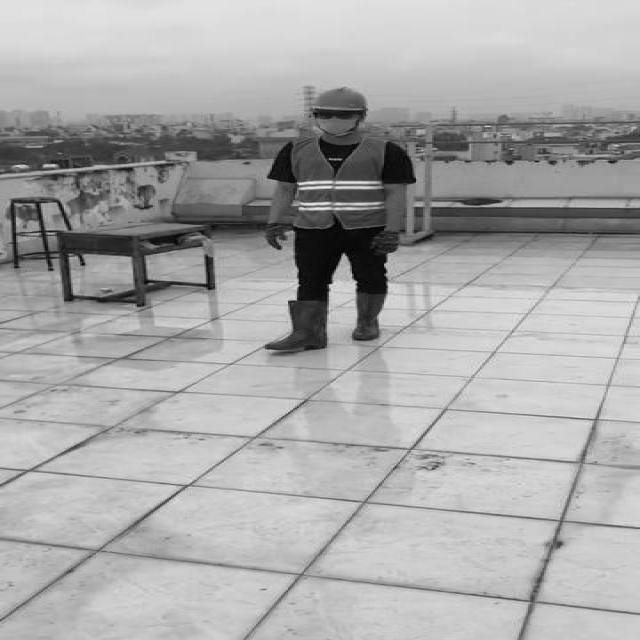boots: (258, 301, 325, 351), (352, 290, 391, 338)
face_mask: (314, 108, 356, 134)
glasses: (311, 108, 363, 122)
hand_glove: (372, 230, 404, 259), (260, 224, 295, 250)
head_helmet: (305, 84, 371, 113)
person: (243, 83, 418, 360)
vest: (292, 136, 388, 231)
